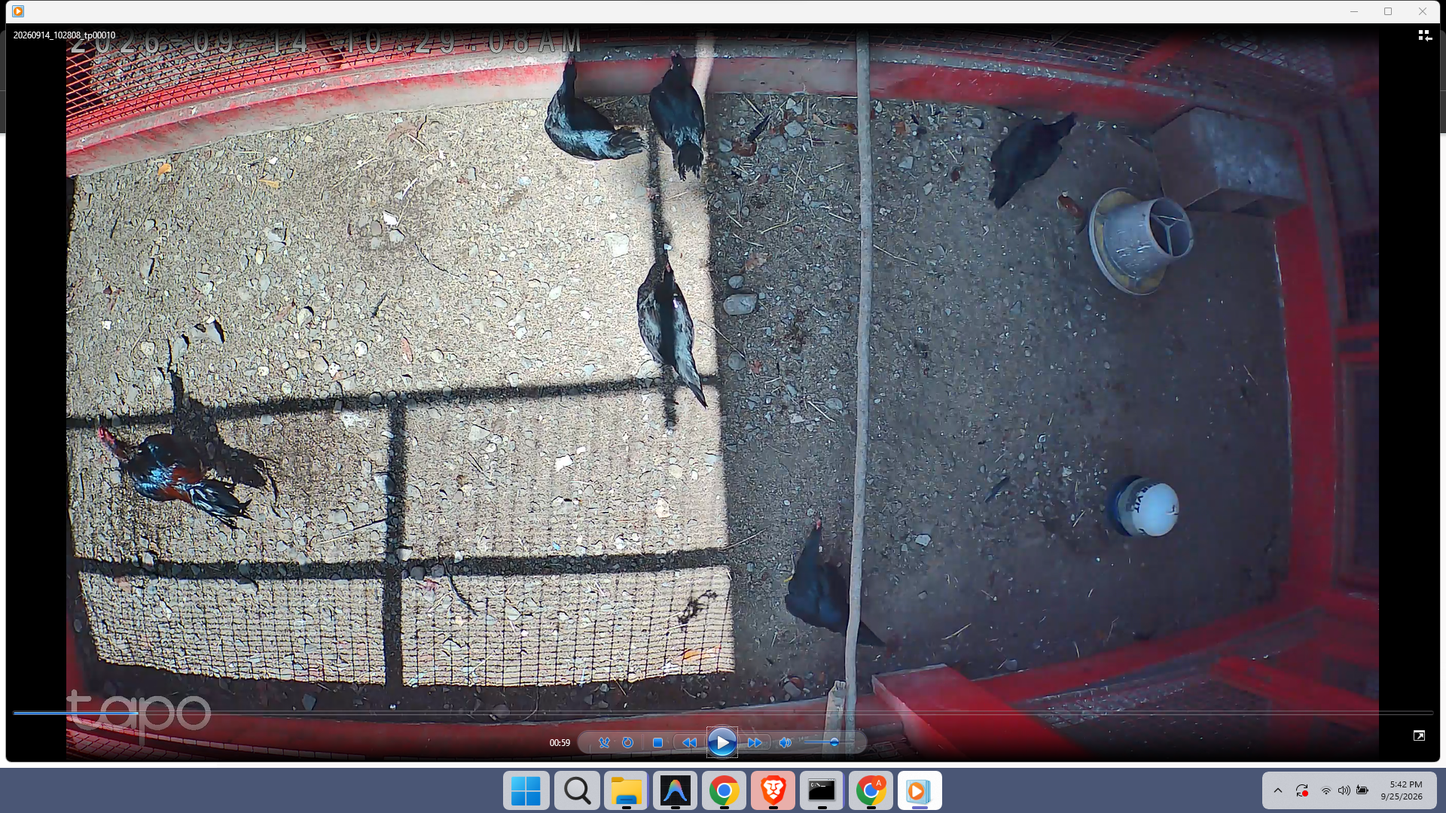Chicken: (783, 517, 893, 649), (629, 262, 718, 414), (544, 53, 644, 164), (983, 107, 1080, 213), (646, 52, 713, 176)
Feeder: (1083, 182, 1195, 296), (1105, 474, 1182, 538)
Rooster: (86, 420, 280, 529)
